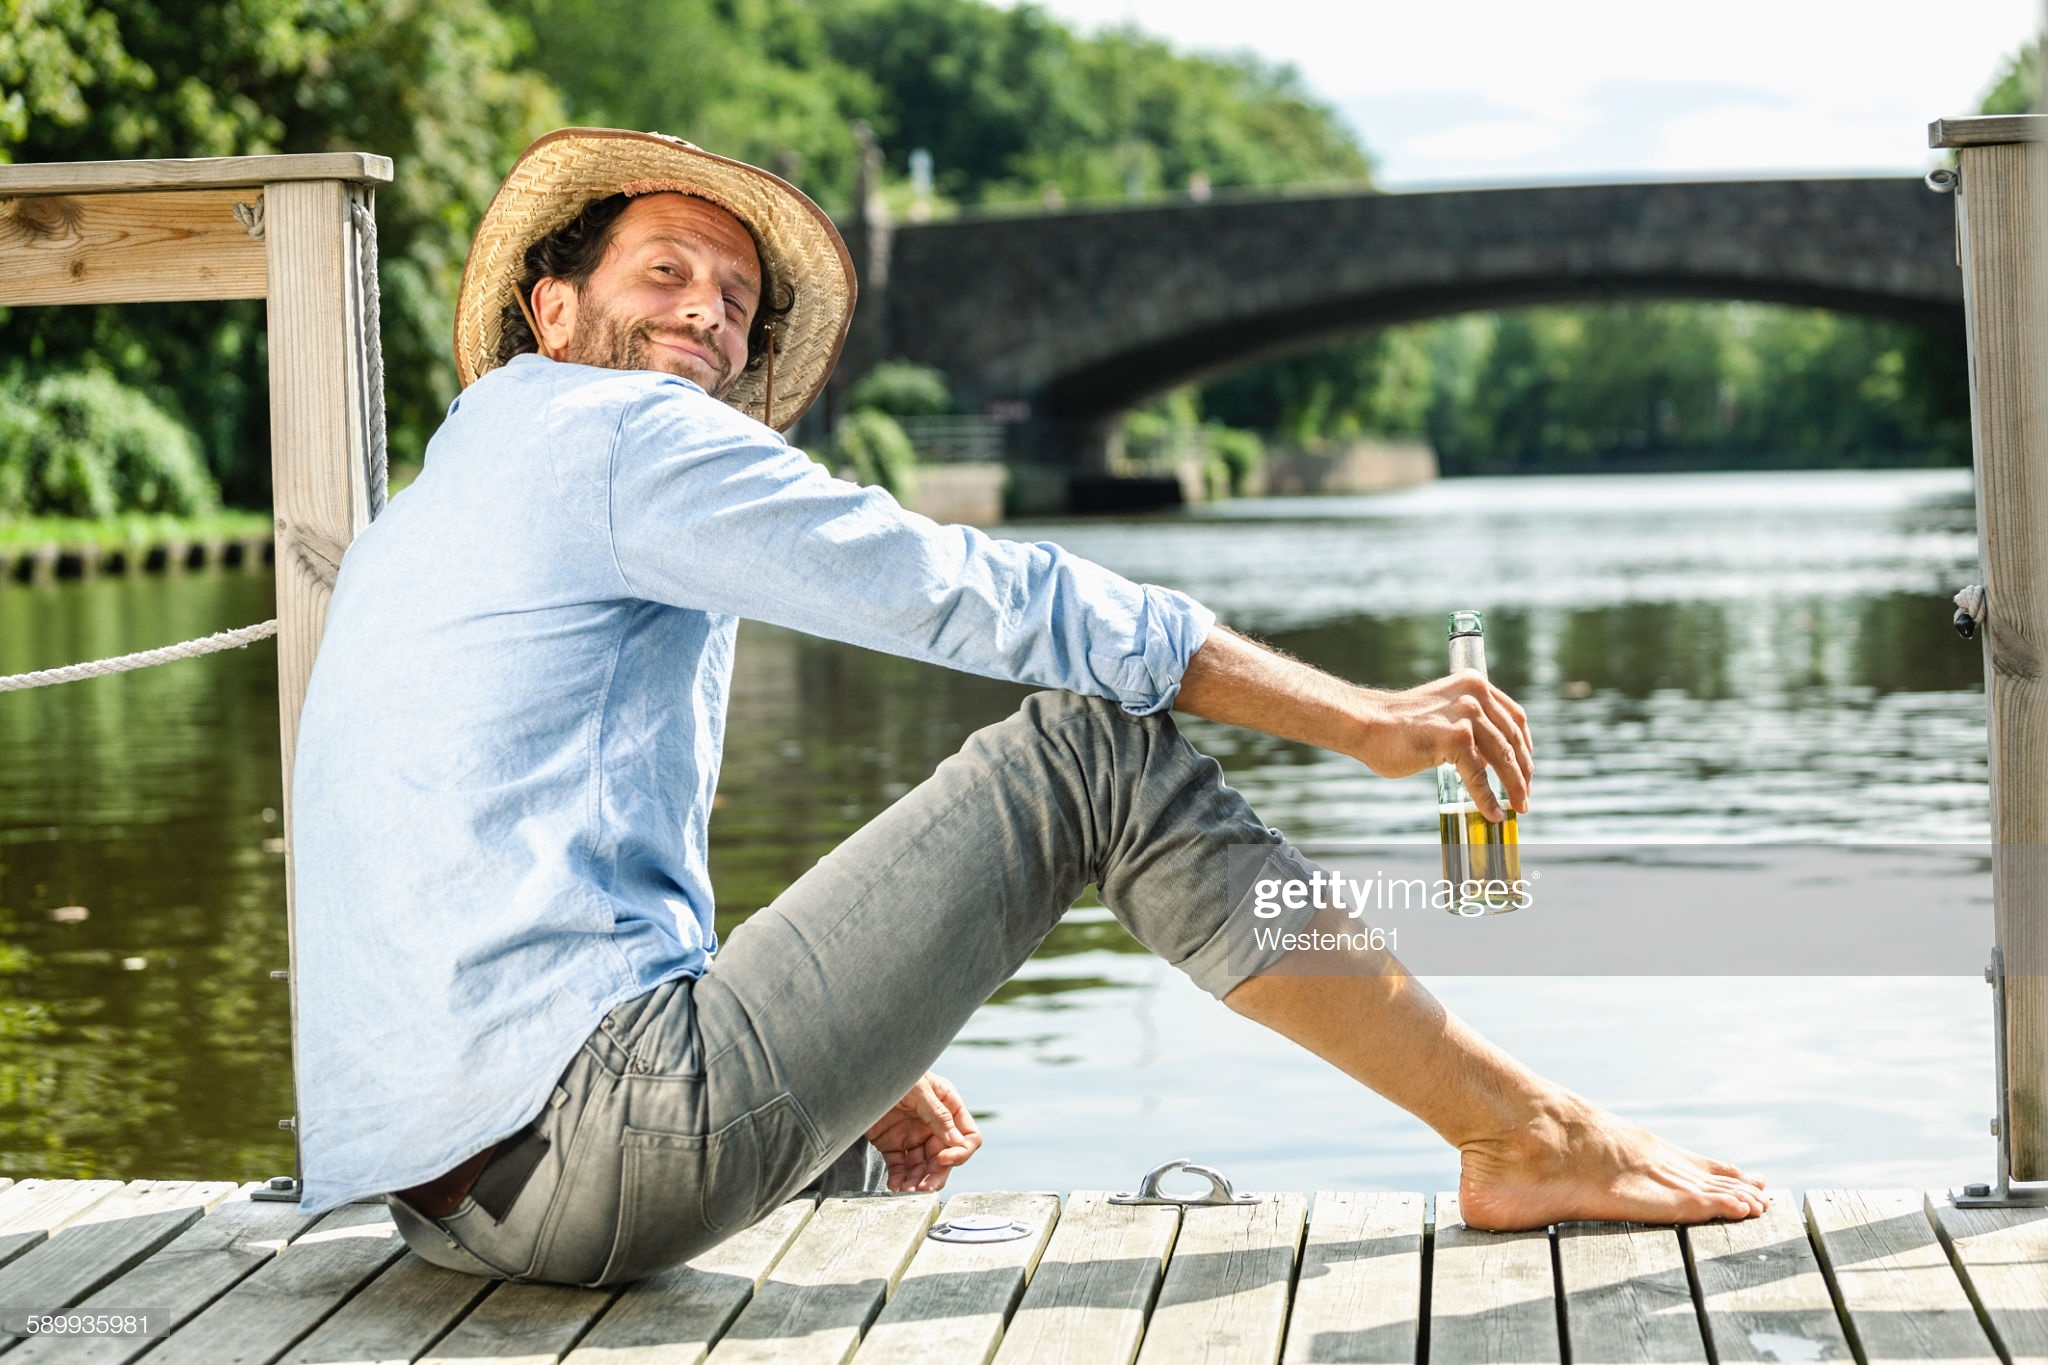beerBottle: (1433, 615, 1539, 919)
